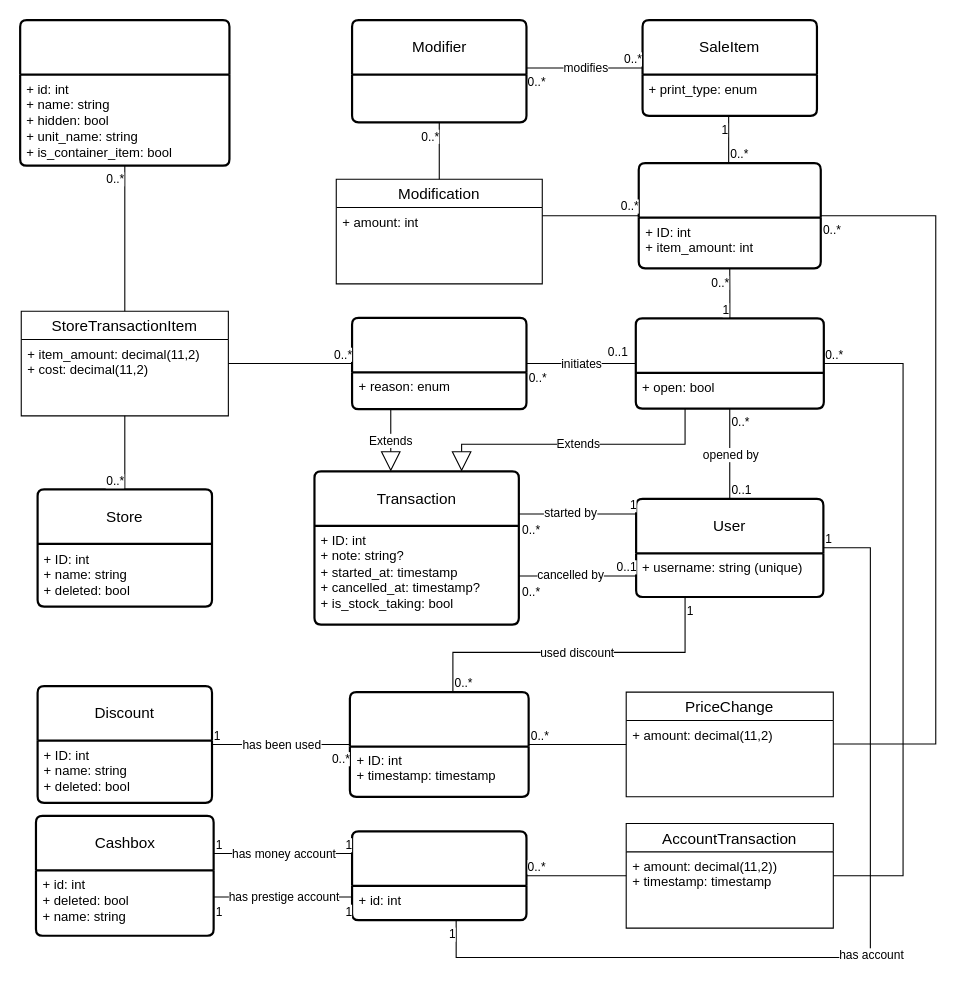
Image size: 956x981. Some labels were removed from this diagram. The box of each missing label's shape, as (x1, y1, x2, y2) in pixels:
Account: (350, 830, 527, 921)
DiscountUsage: (348, 690, 529, 797)
SaleTransaction: (634, 317, 824, 409)
SaleTransactionItem: (637, 162, 821, 269)
StoreItem: (19, 19, 230, 166)
StoreTransaction: (350, 316, 527, 410)
